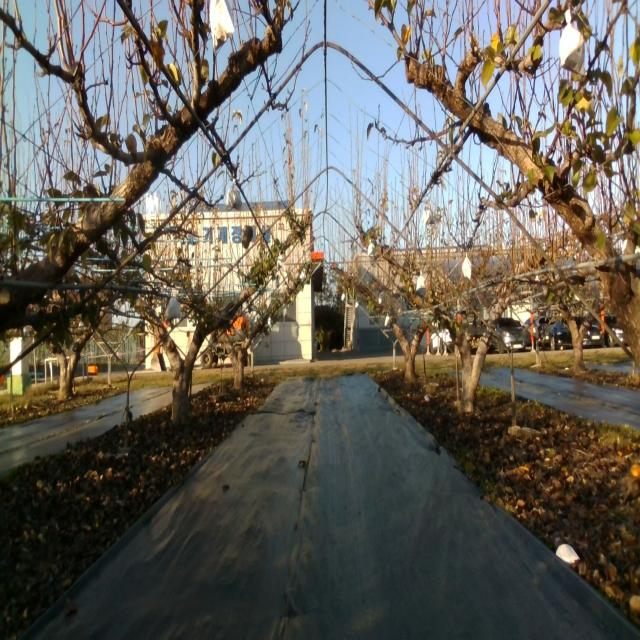pearbags: (558, 8, 585, 78), (208, 0, 234, 47), (224, 179, 244, 209), (163, 296, 181, 322), (462, 253, 472, 282), (424, 200, 434, 225)
